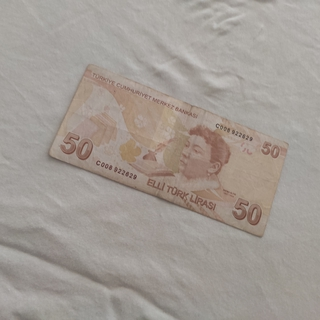50TLBack: (48, 64, 288, 237)
